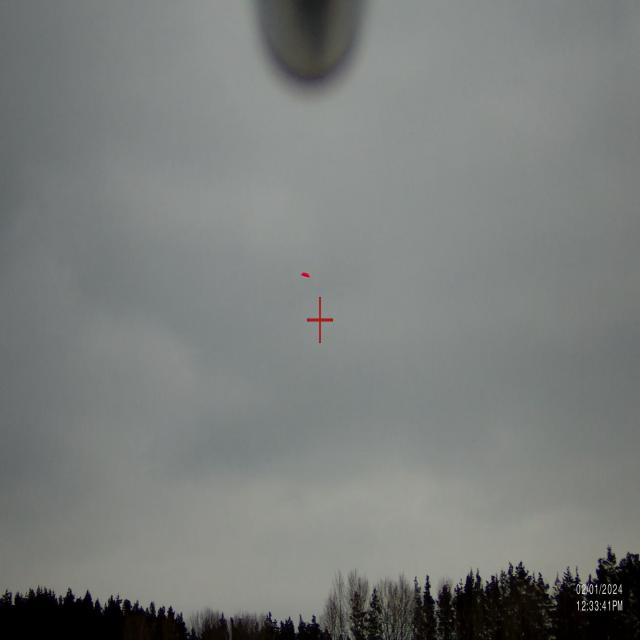entire: (296, 262, 314, 293)
